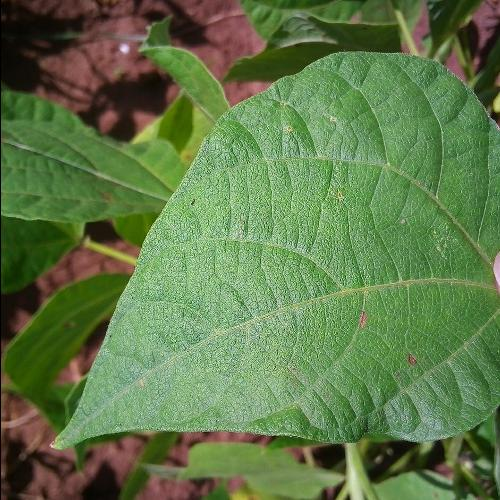hawar: (272, 106, 388, 224), (180, 194, 216, 234), (347, 306, 375, 340), (396, 348, 432, 370)
